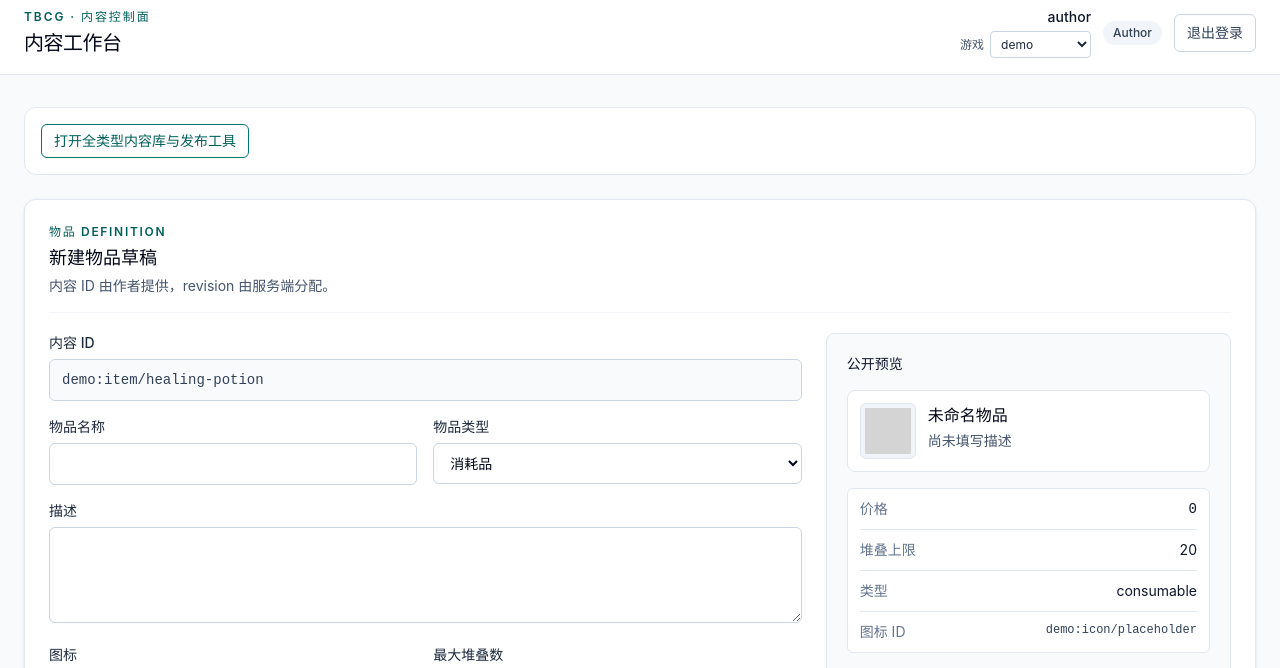
Test: App › blocks Game switching while a write is pending
In the field labelled "物品名称": (233, 464) [49,443,417,485], type "保存中的名称"
(page scrolled)
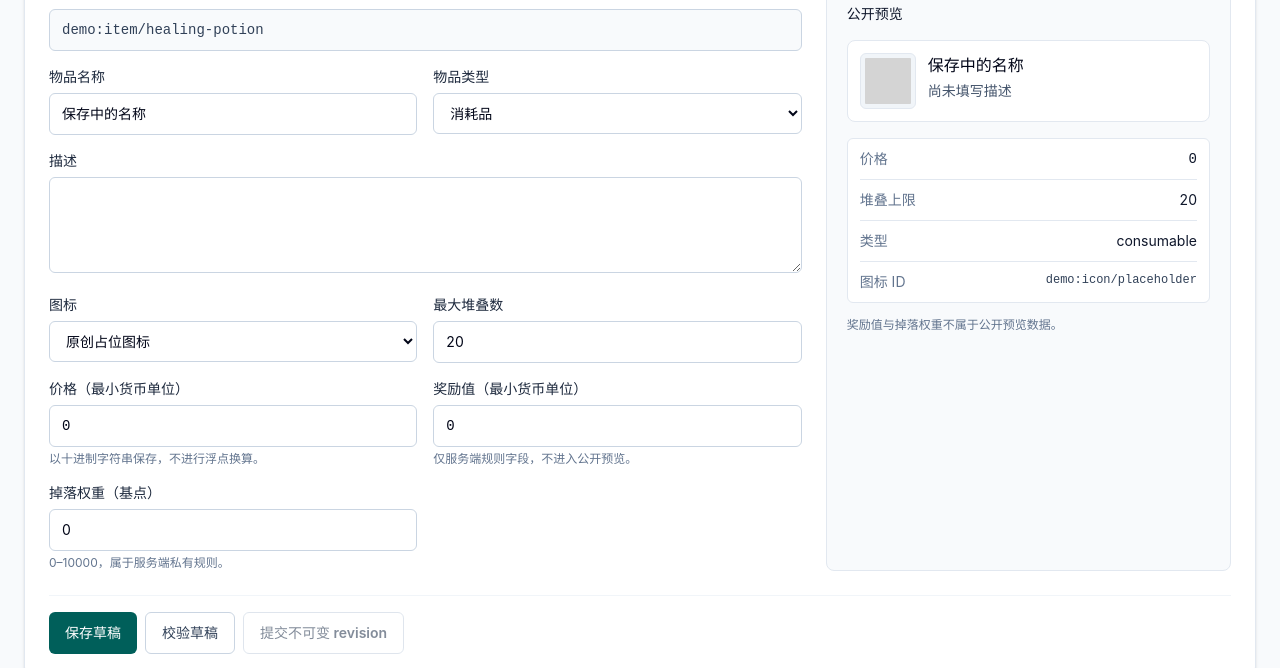
Click the button "保存草稿": click(93, 633) [49,612,137,654]
(page scrolled)
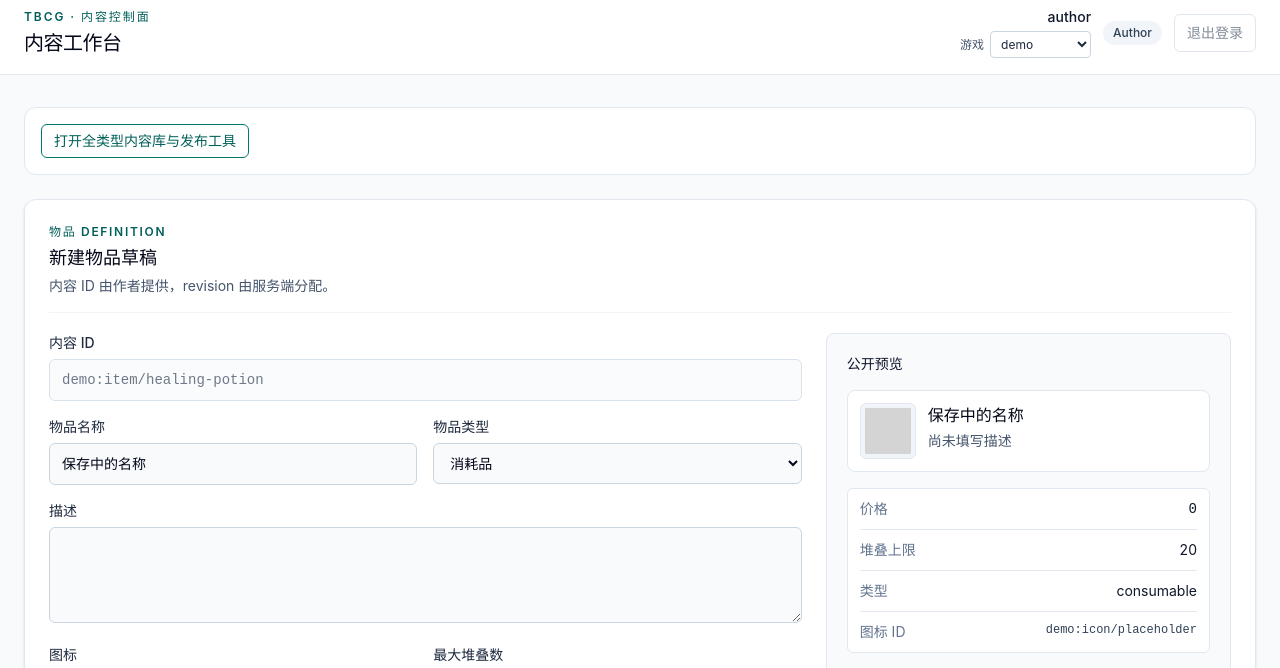
Now the dropdown labelled "游戏" is disabled, box [990,31,1091,58]
